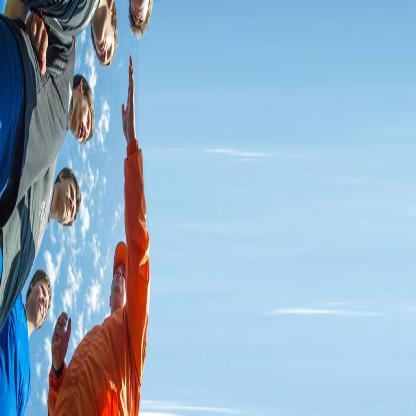face: (75, 97, 92, 144), (34, 280, 50, 326), (95, 36, 115, 67), (65, 178, 77, 224), (132, 1, 150, 27), (112, 262, 128, 289)
